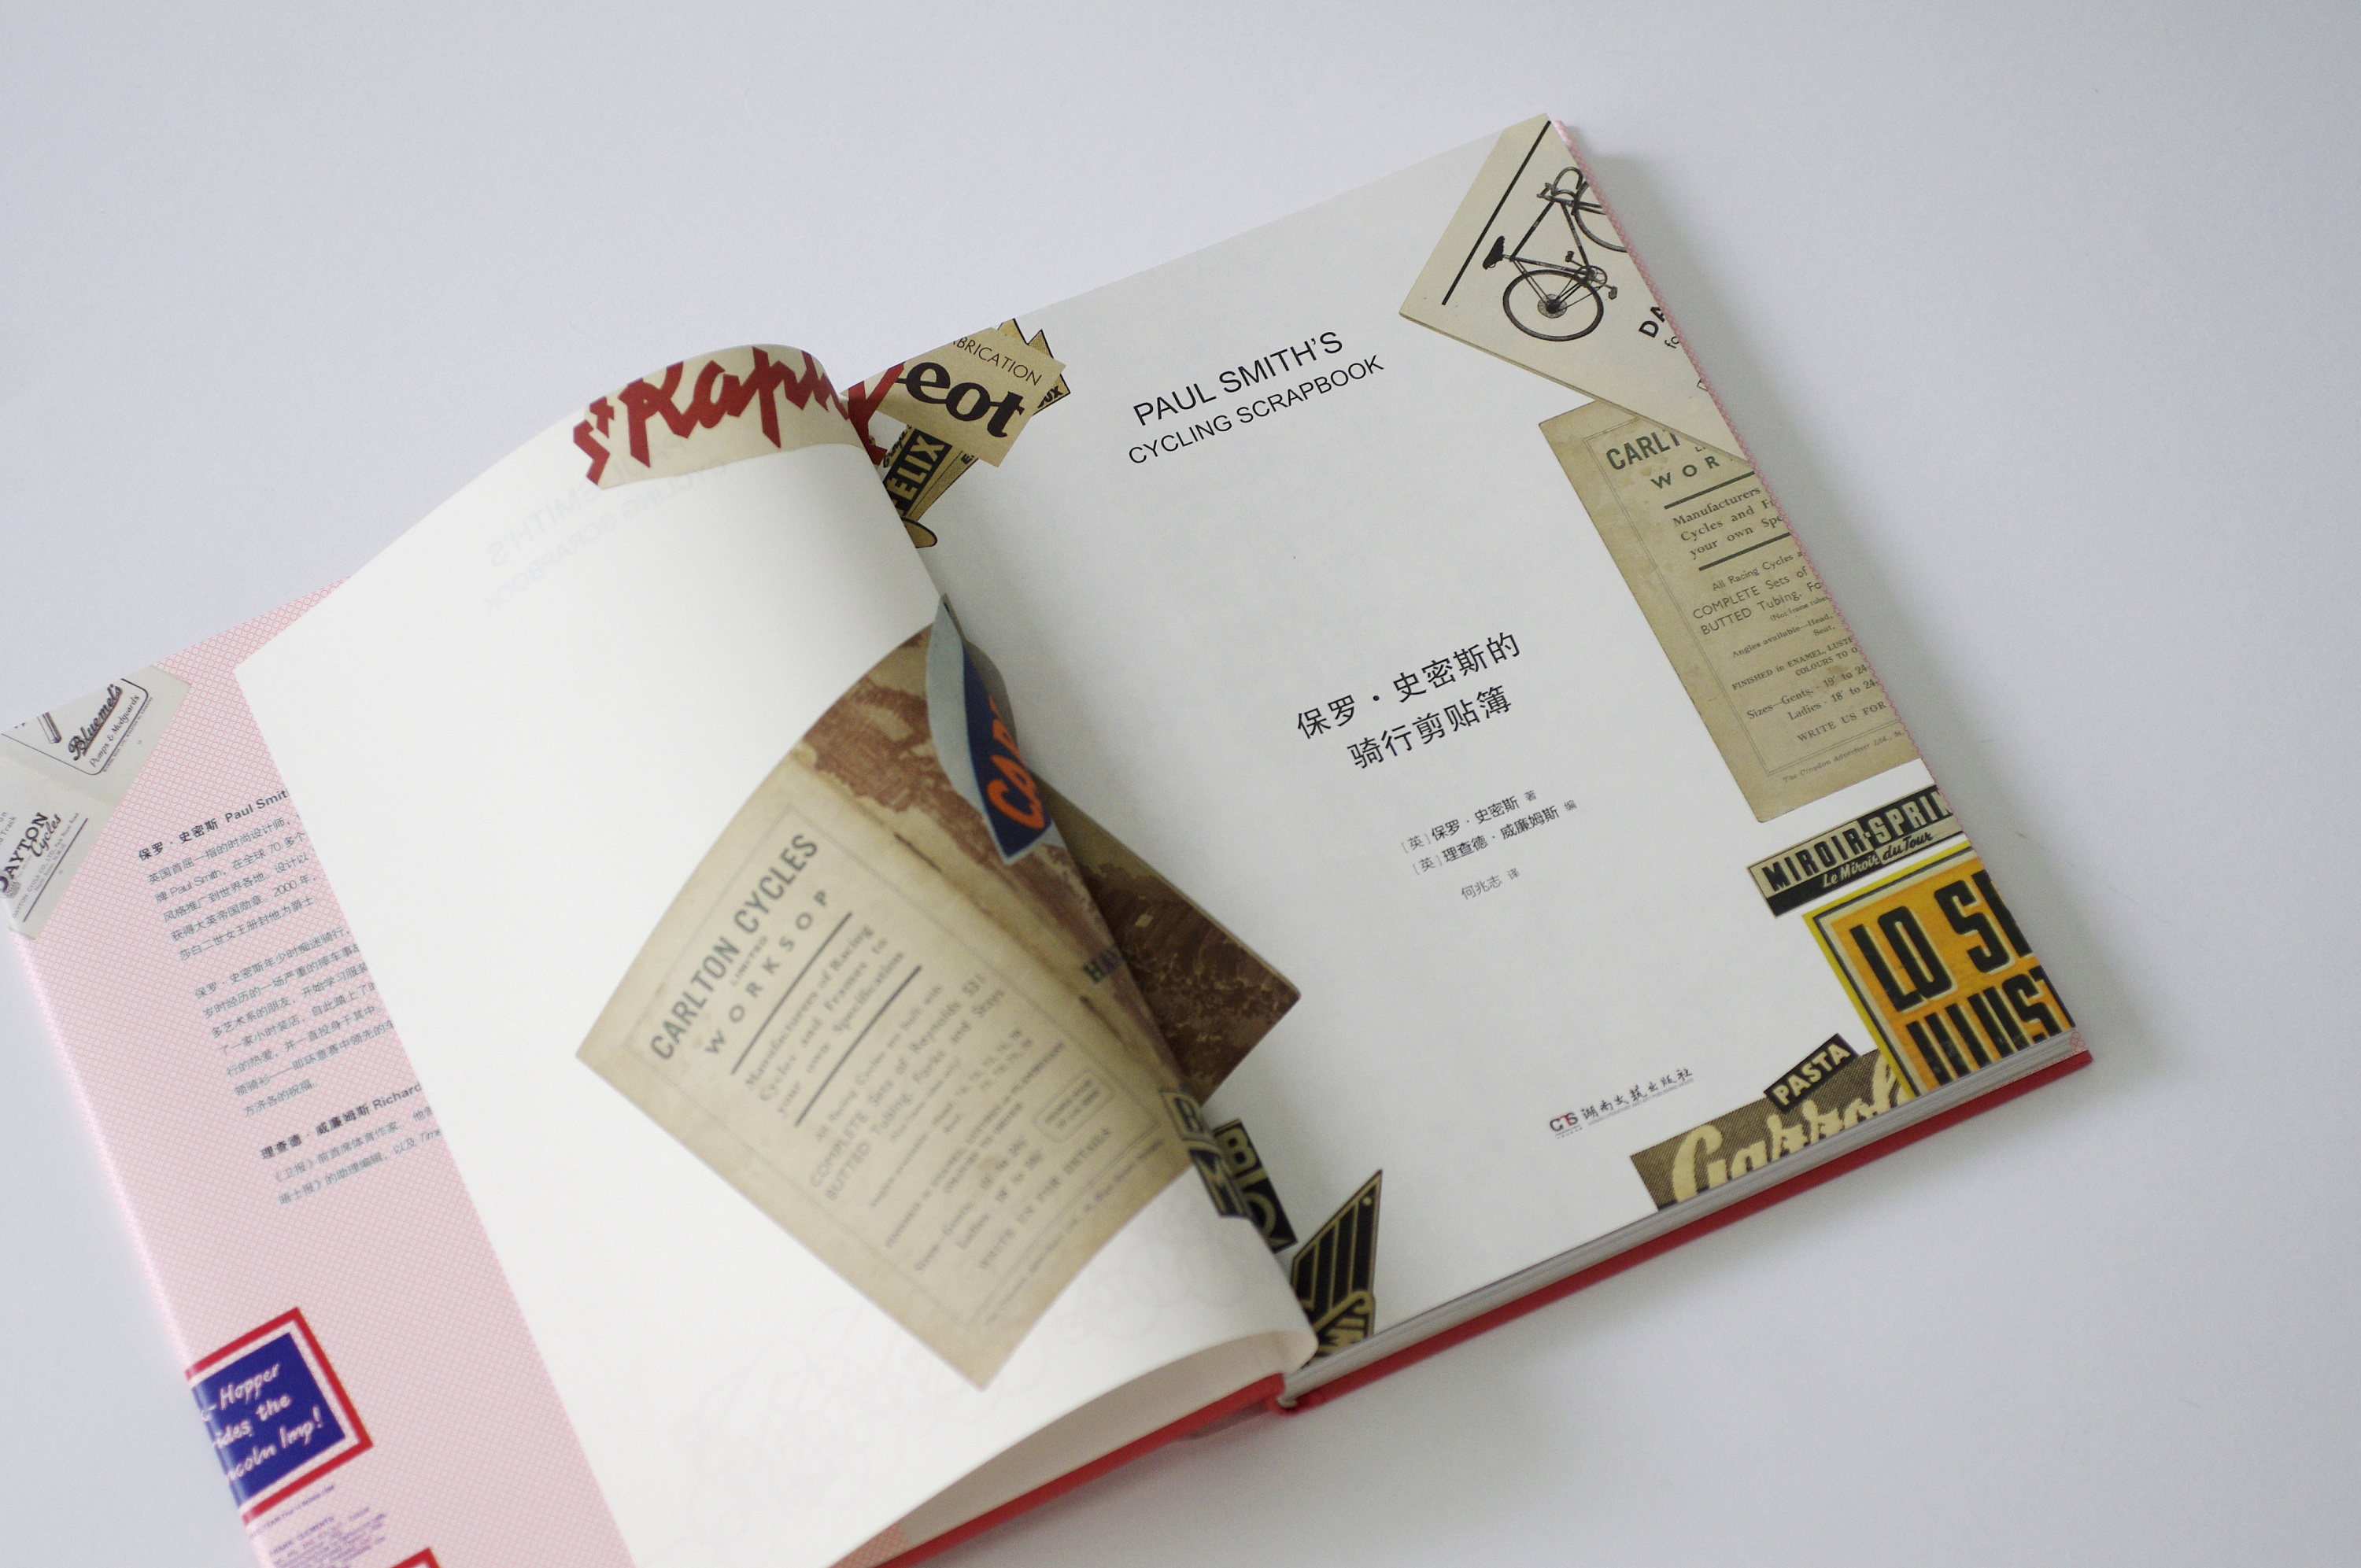book: (0, 93, 2109, 1568)
